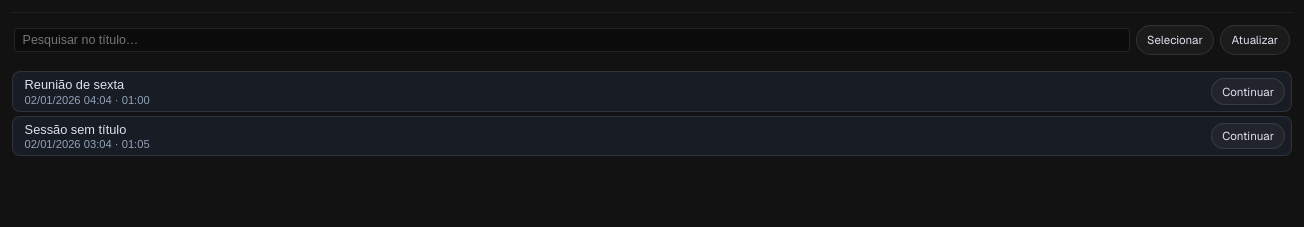
Test: HistoryPanel › limpa a seleção quando a pesquisa muda
The image size is (1304, 227).
Expected: the text "Reunião de sexta" is shown, left=25, top=77, right=124, bottom=92
Click the button "Selecionar" at (1175, 40), box left=1136, top=25, right=1214, bottom=55
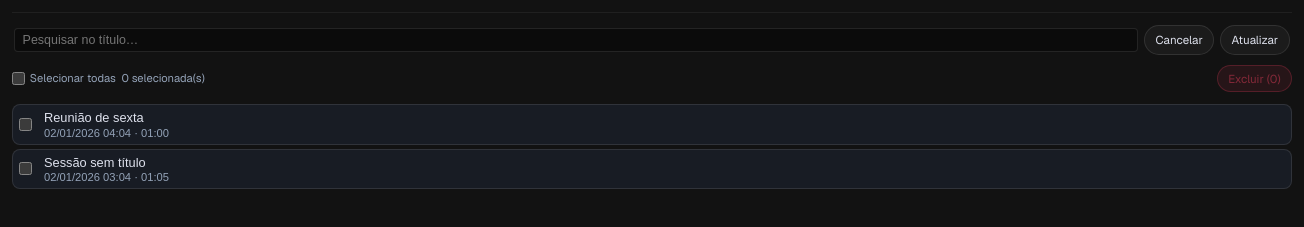
Click the checkbox named "Selecionar Reunião de sexta" at (25, 124), box left=19, top=118, right=32, bottom=131
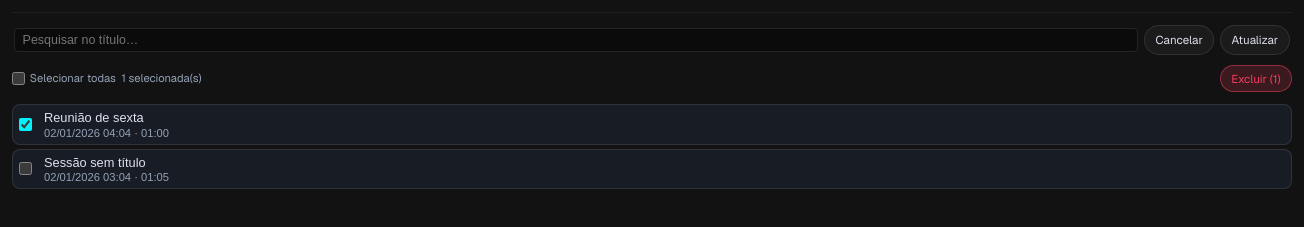
Expected: the button "Excluir (1)" is shown, left=1220, top=65, right=1292, bottom=92
Type "reuniao" into the search field labelled "Pesquisar no título…" at (576, 40), box left=14, top=28, right=1138, bottom=52
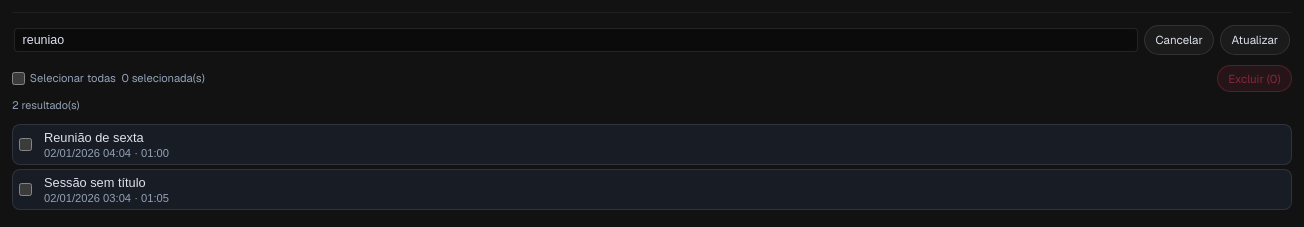
Expected: the button "Excluir (0)" is shown, left=1217, top=65, right=1292, bottom=92
